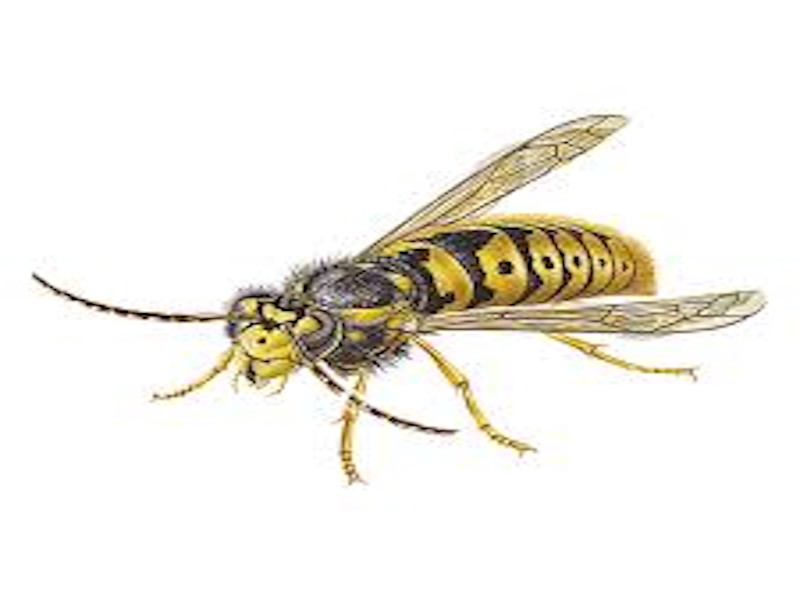chax: (20, 105, 781, 481)
